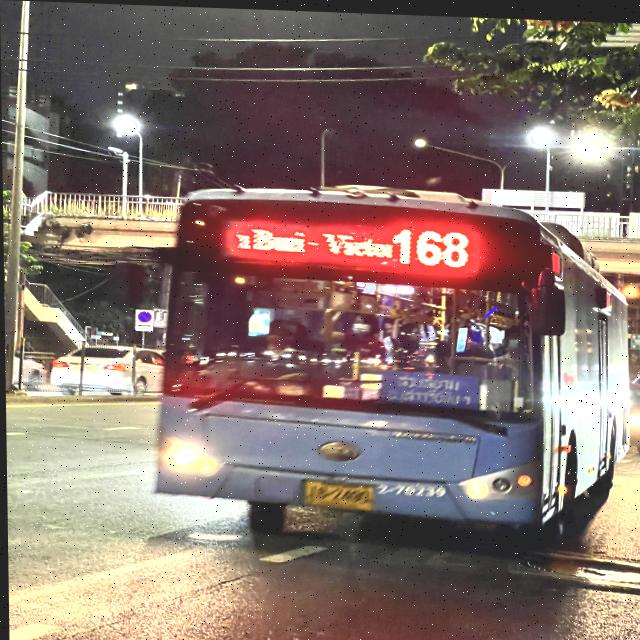BMTA-bus: (149, 182, 634, 546)
Bus-Line-Number: (390, 225, 470, 267)
Destination-Sign-Normal: (384, 367, 486, 408)
